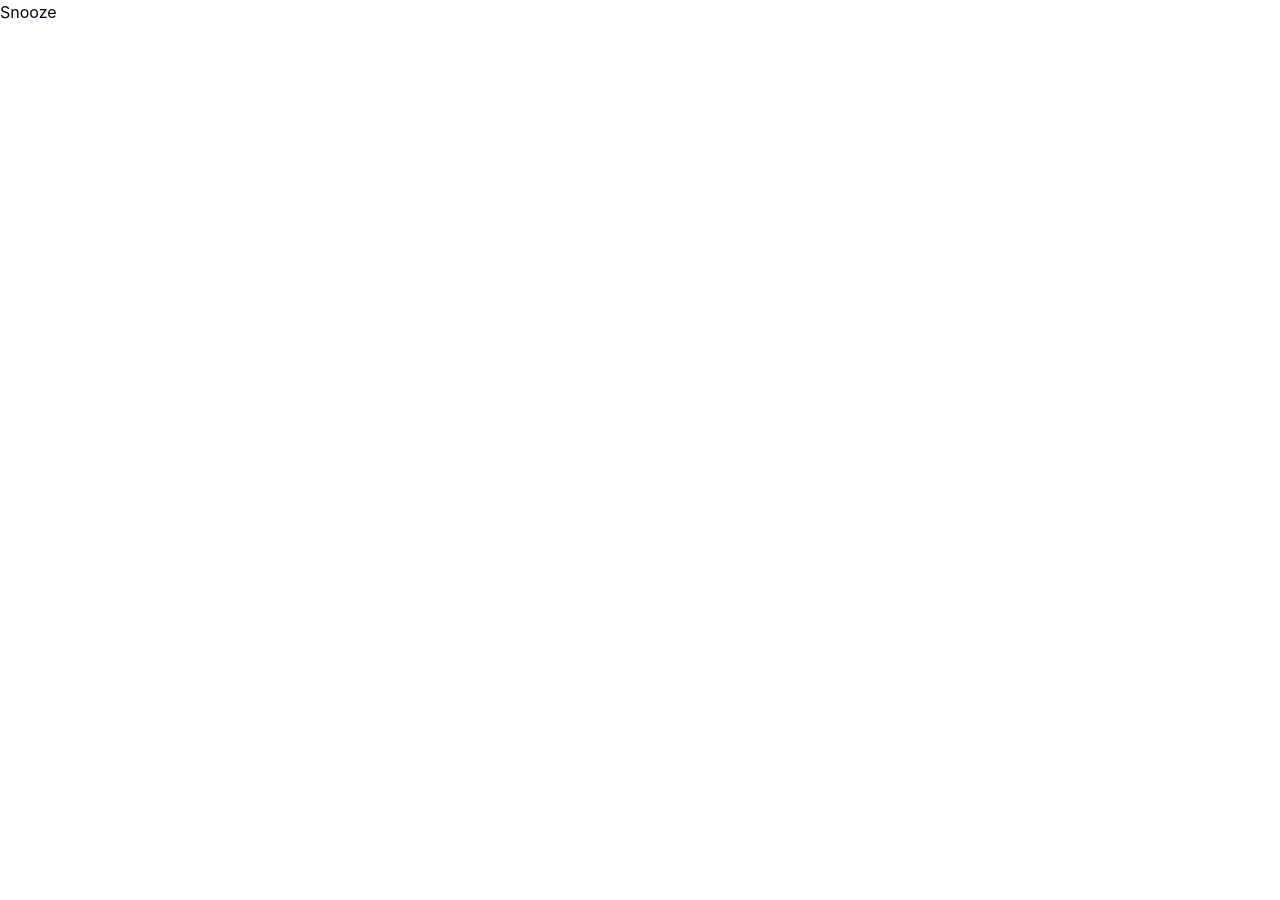
Scenario: a custom snooze time › snoozes until the chosen local time and closes
This screenshot has width=1280, height=900.
Press Enter in the button "Snooze", box [0,0,57,24]
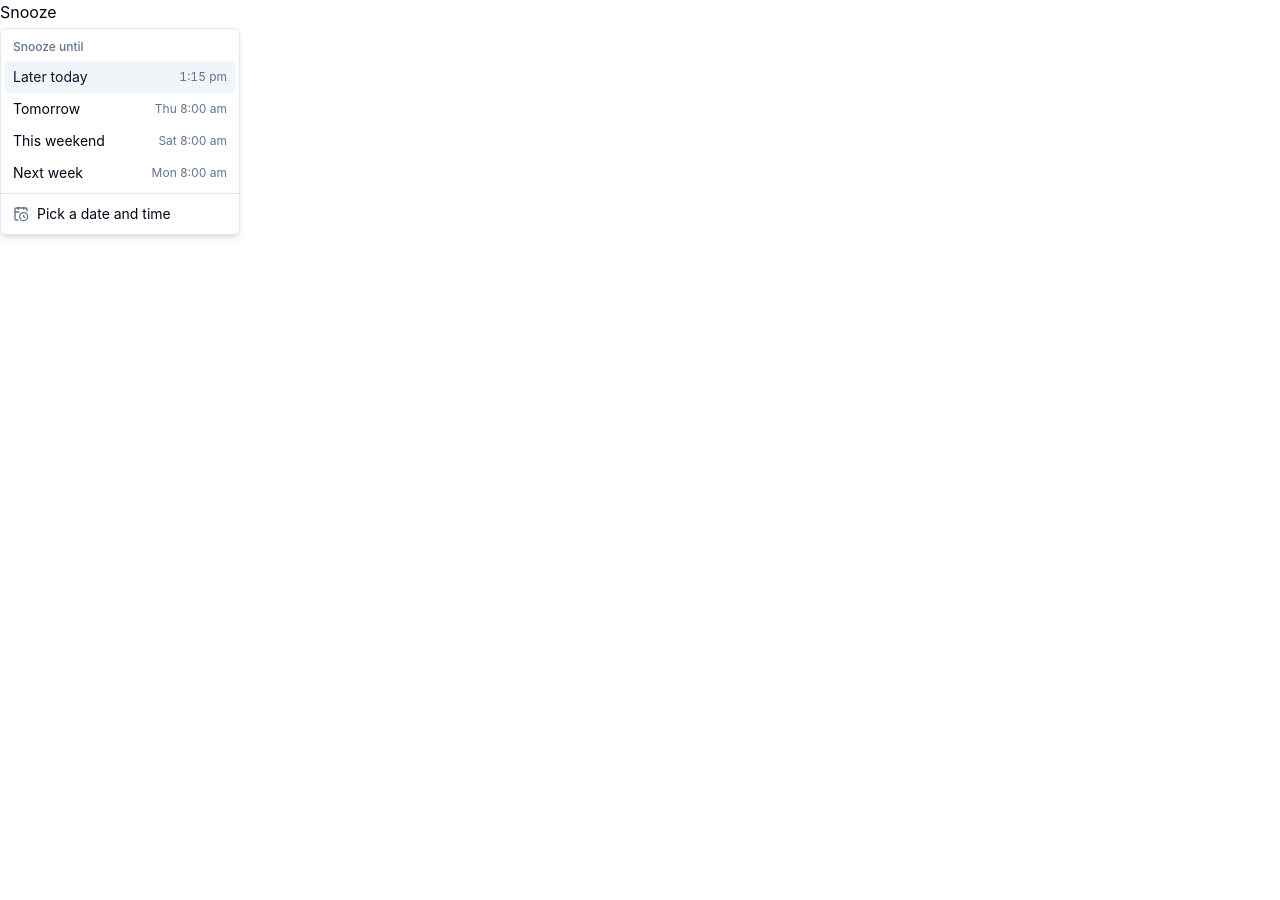
Click the menu item "Pick a date and time" at coordinates (92, 214), box [13,205,171,222]
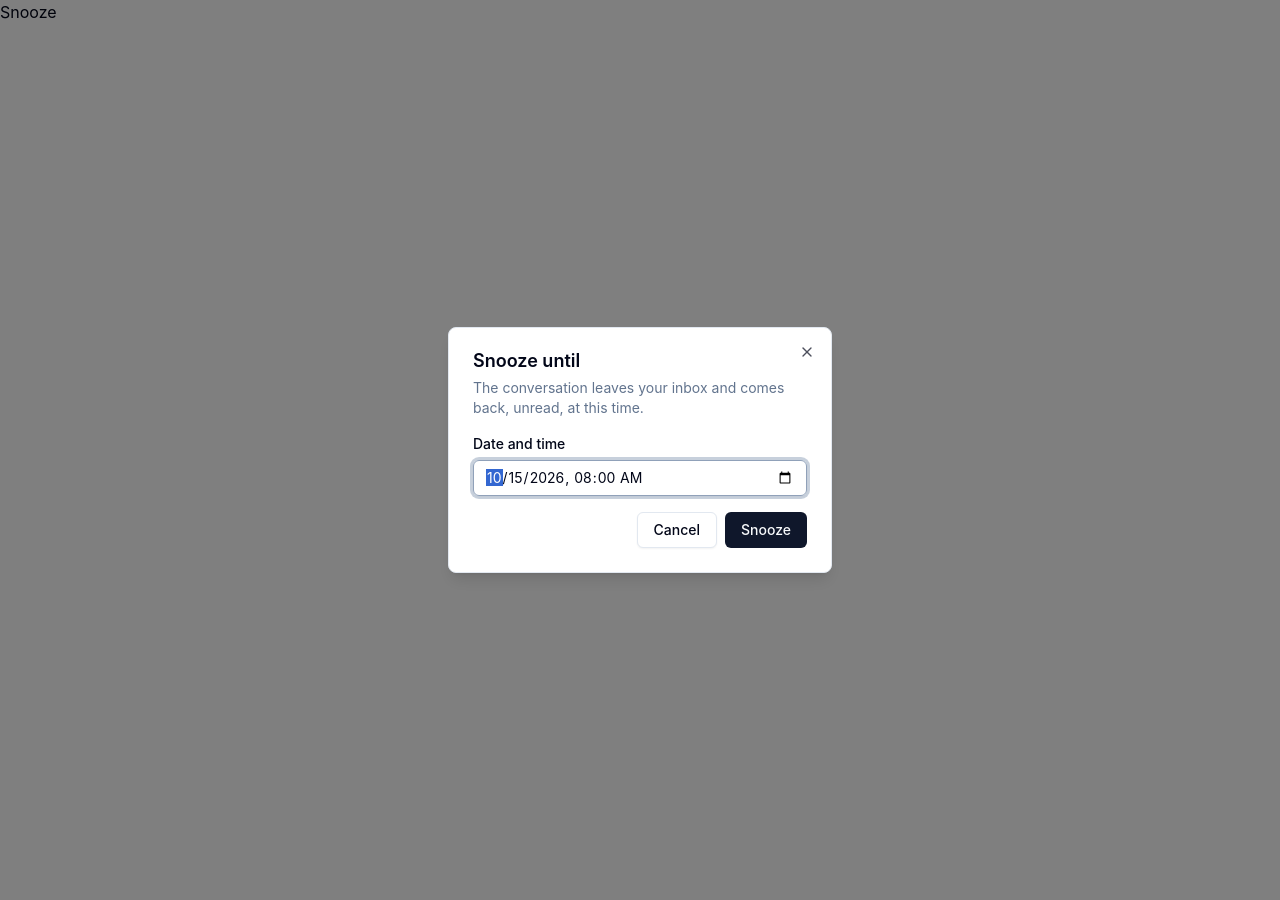
Replace the text in the field labelled "Date and time" with "2026-11-02T09:30" at coordinates (640, 478), box [473,460,807,496]
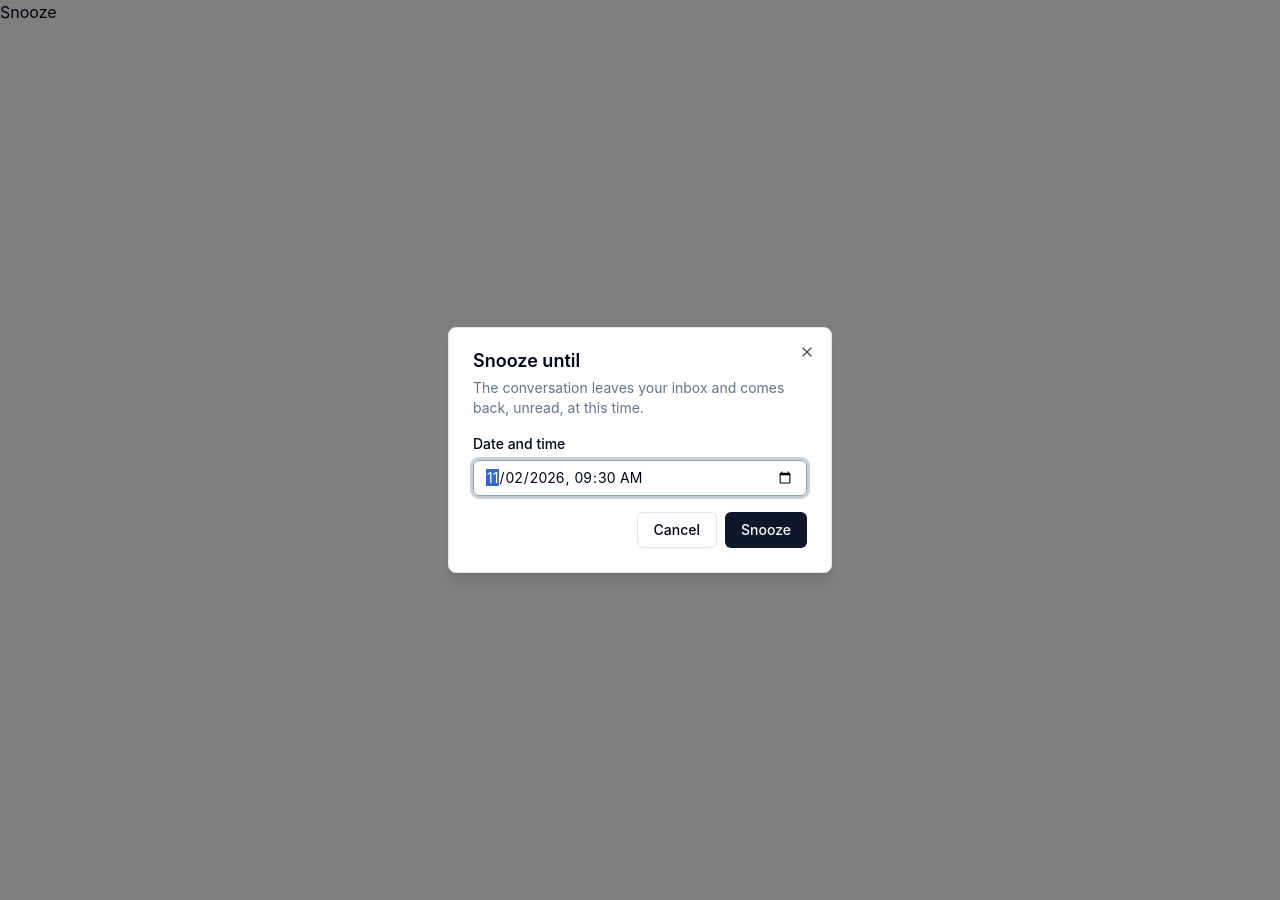
Click the button "Snooze" at coordinates (766, 530), box [725,512,807,548]
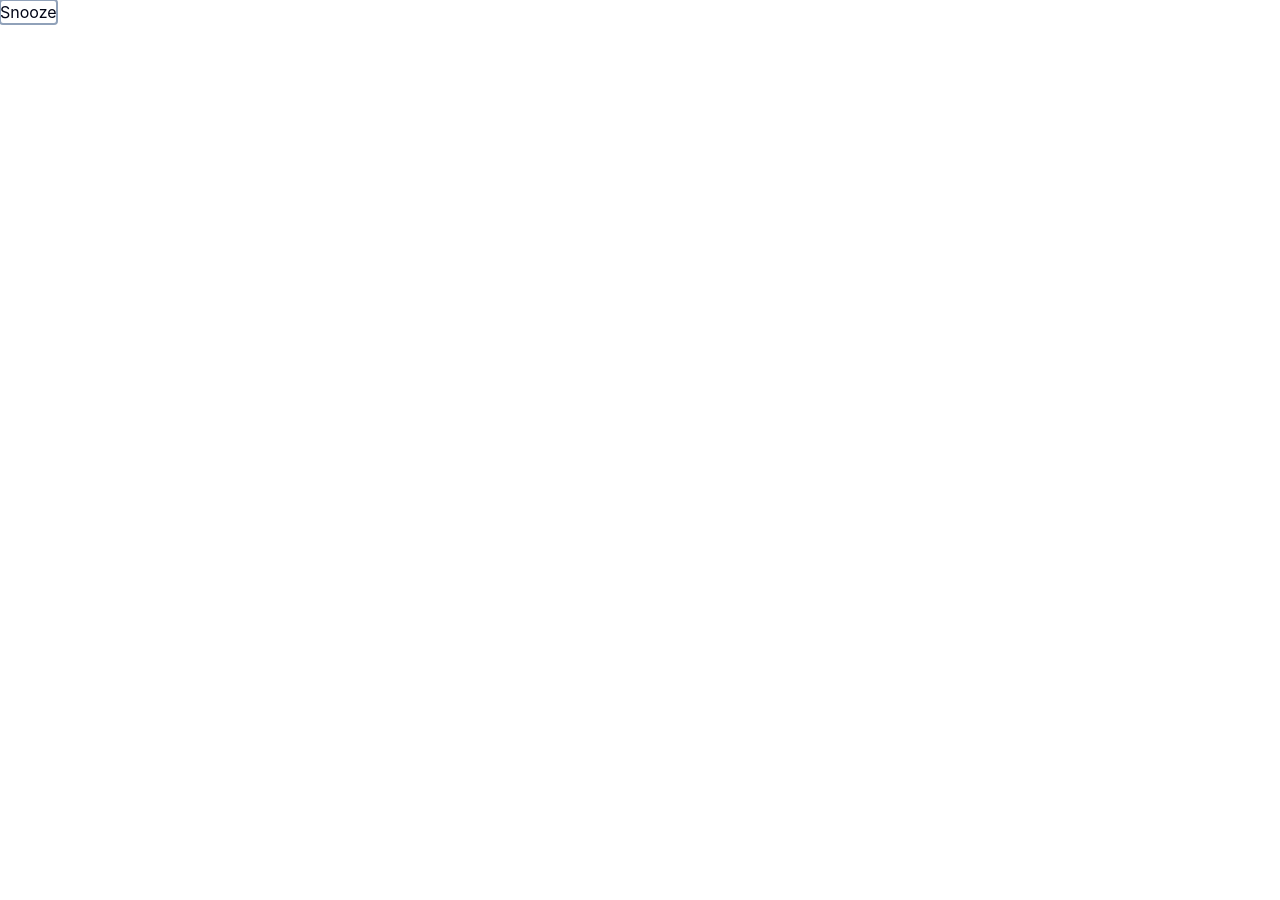
Result: the dialog is gone
